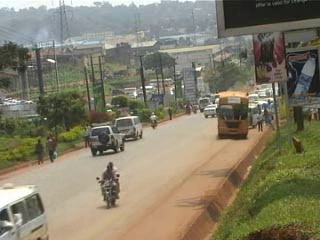Car: (84, 123, 128, 160), (203, 100, 217, 119)
Motorcycle: (94, 174, 122, 208), (148, 117, 158, 129), (192, 103, 198, 115)
